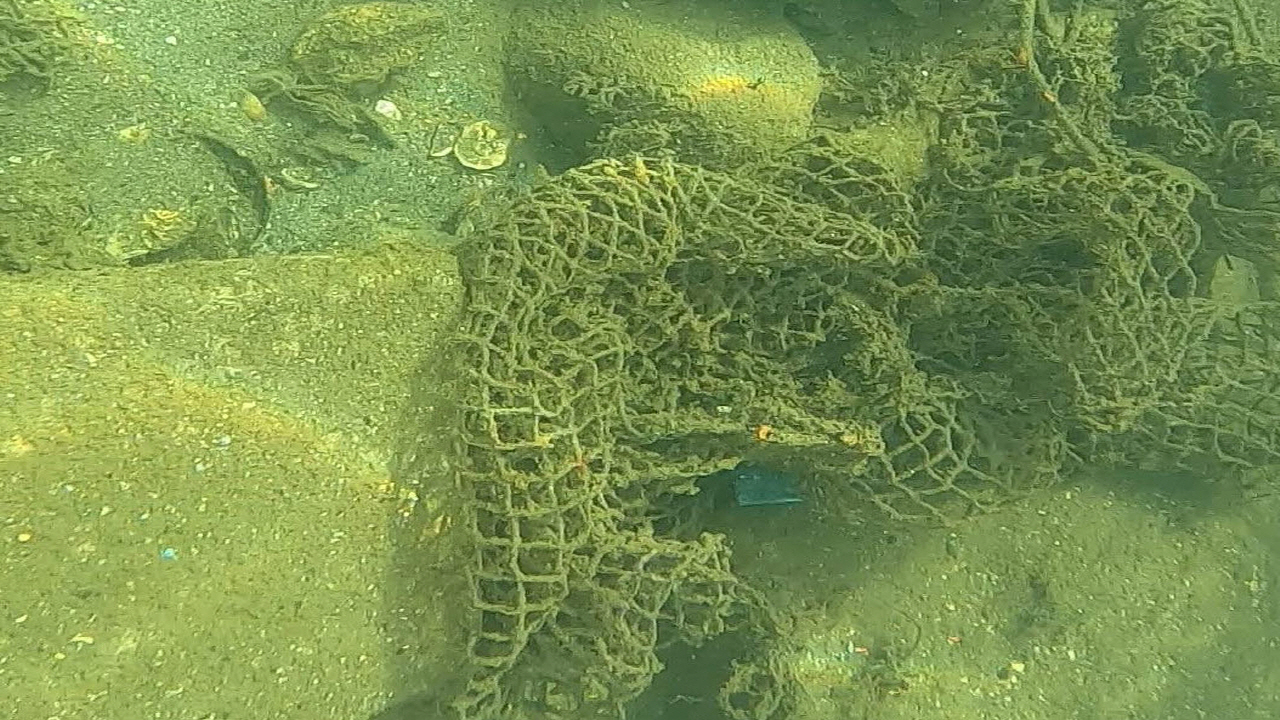fish net: (440, 0, 1280, 720)
